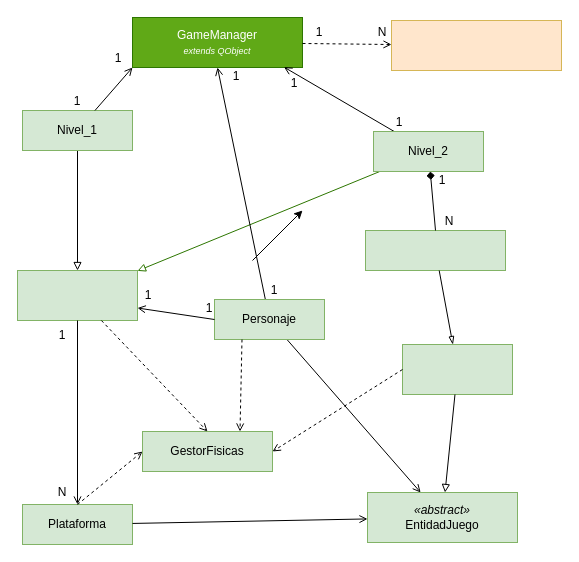
This 579x562 diagram has some shape labels left out. The centre of each missing label's shape, as x and y in pixels:
"BotonMenu extends QGraphicsObject" belongs at [476,45].
"RobotSeguridad" belongs at [435,250].
"«abstract» Enemigo" belongs at [457,369].
"«abstract» Nivel" belongs at [77,295].
